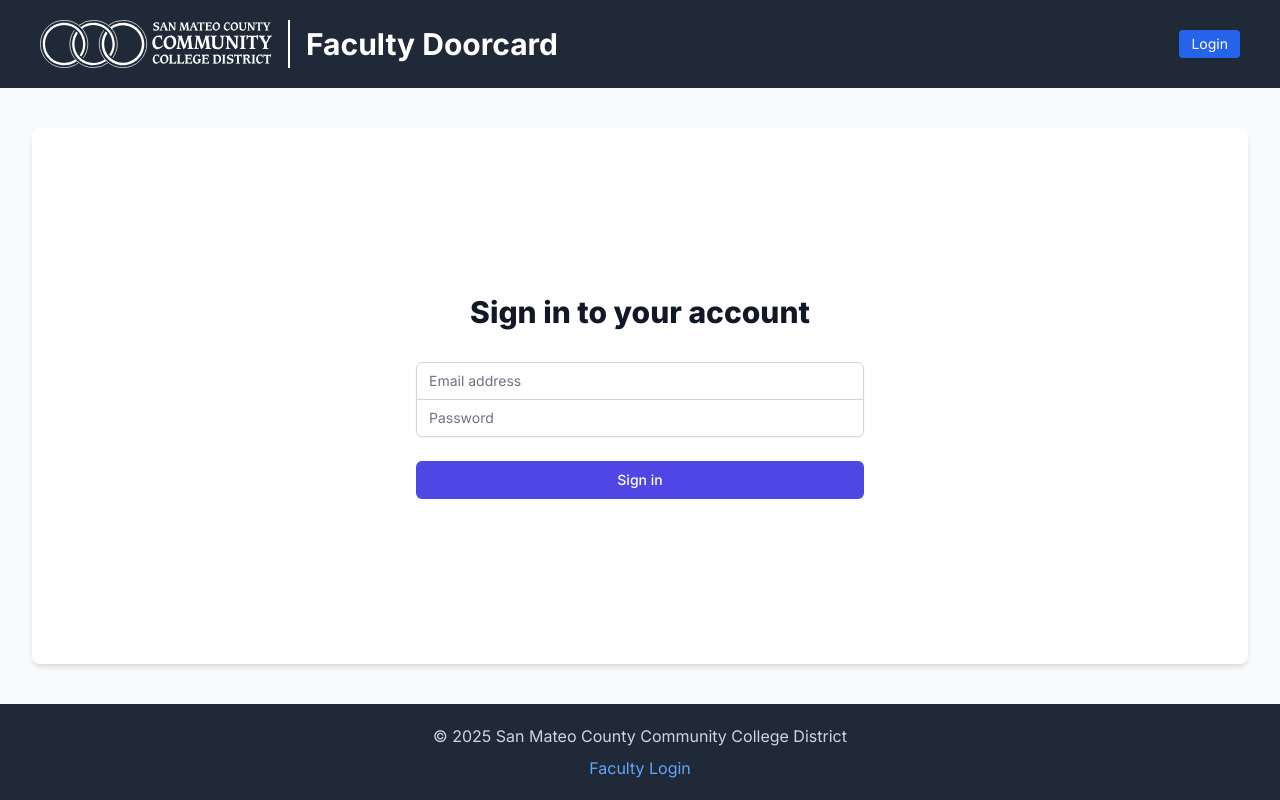
Test: Authentication Flow › should show error for invalid credentials
This screenshot has width=1280, height=800.
Type "besnyib@smccd.edu" into the field named "email".
click(640, 381); type("besnyib@smccd.edu")  # box [416,362,864,400]
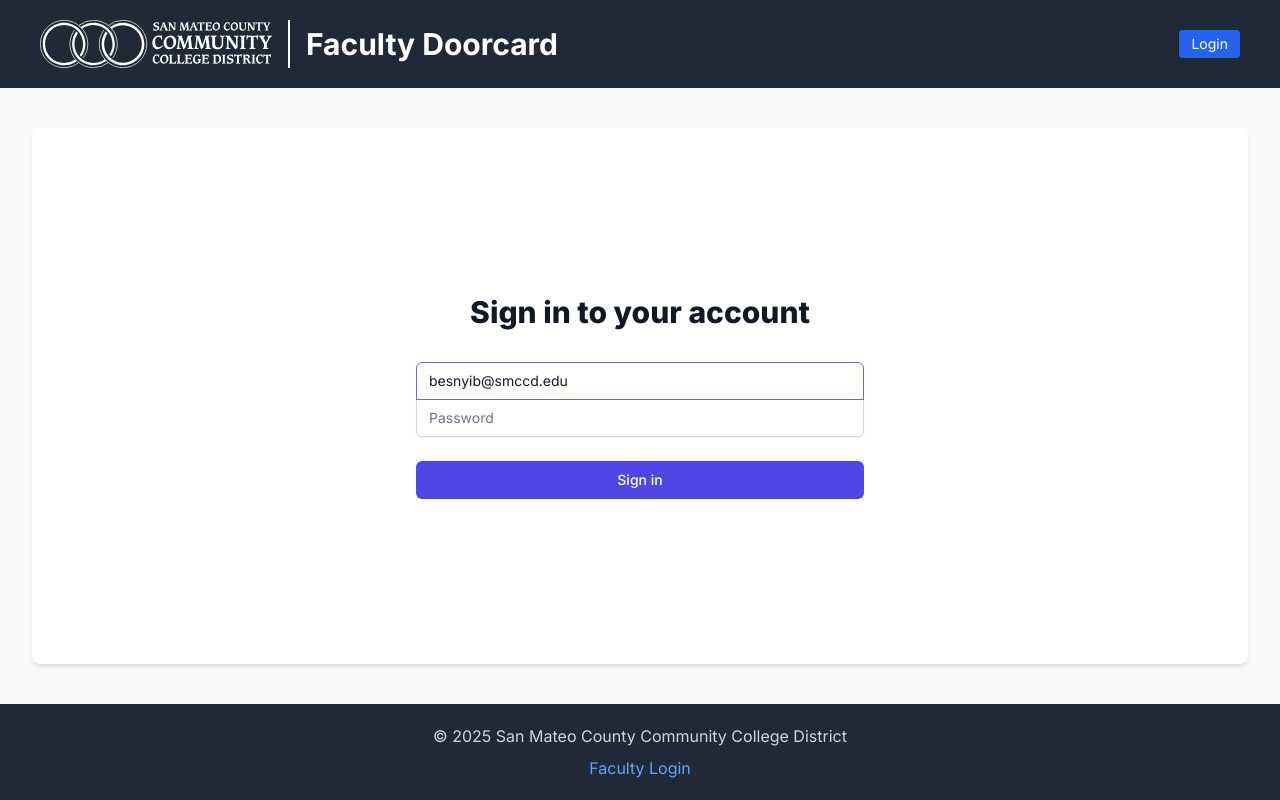
Type "wrongpassword" into the password field named "password".
click(640, 418); type("wrongpassword")  # box [416,399,864,437]
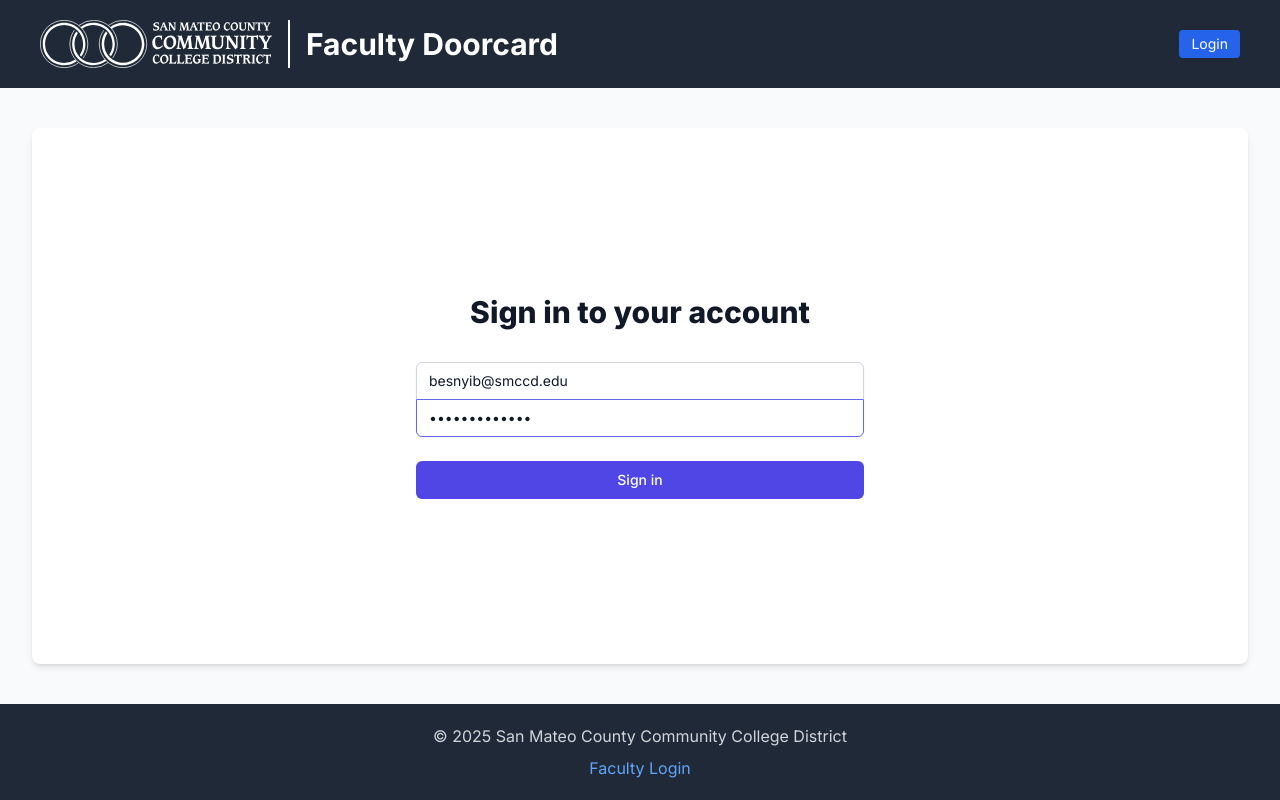
Click the submit button.
click(640, 480)  # box [416,461,864,499]
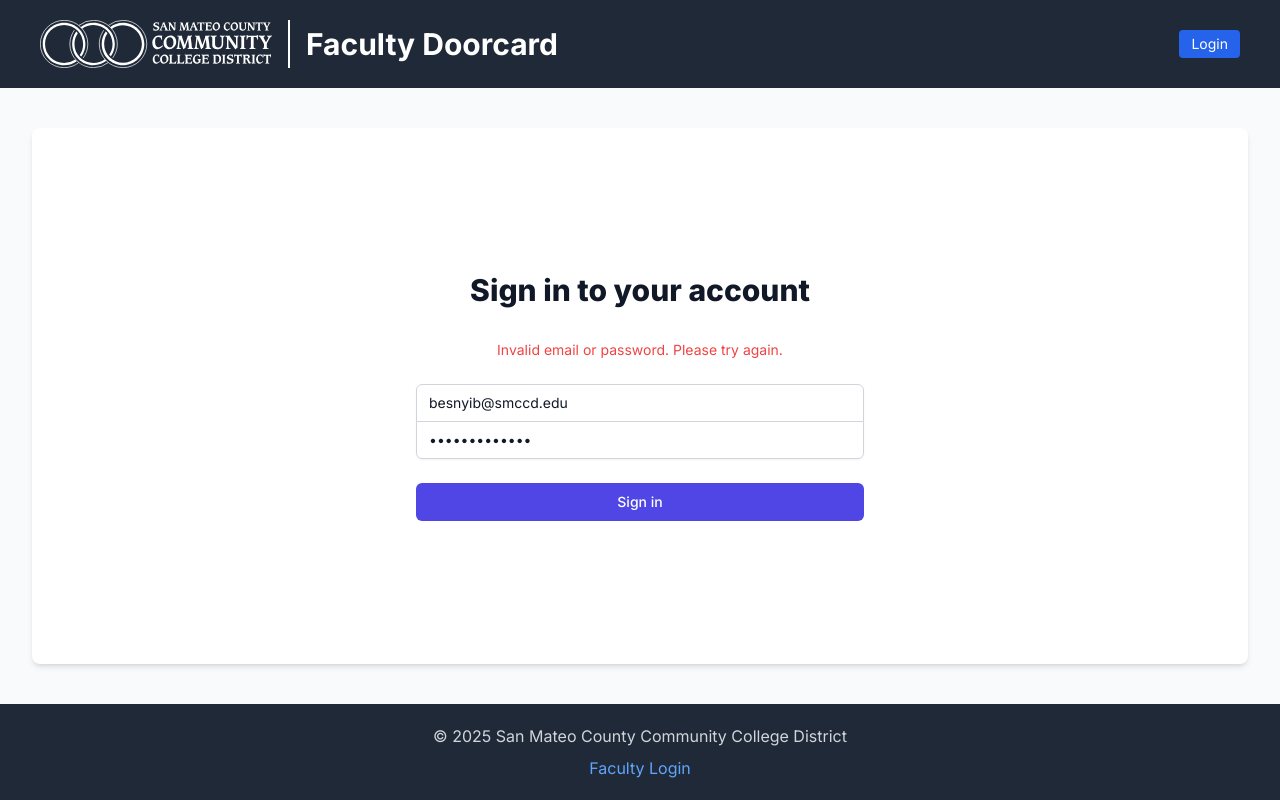
Check: the text "Invalid email or password" is shown, box [497,341,783,358]
